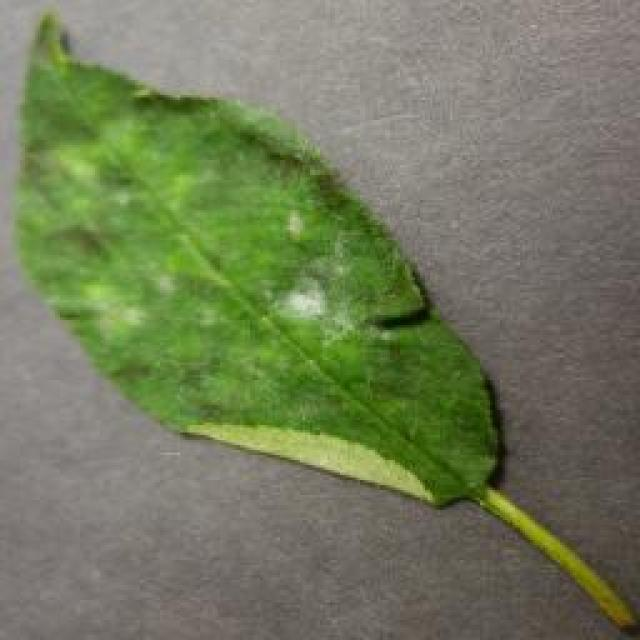Cherry___Powdery_mildew: (2, 3, 630, 635)
